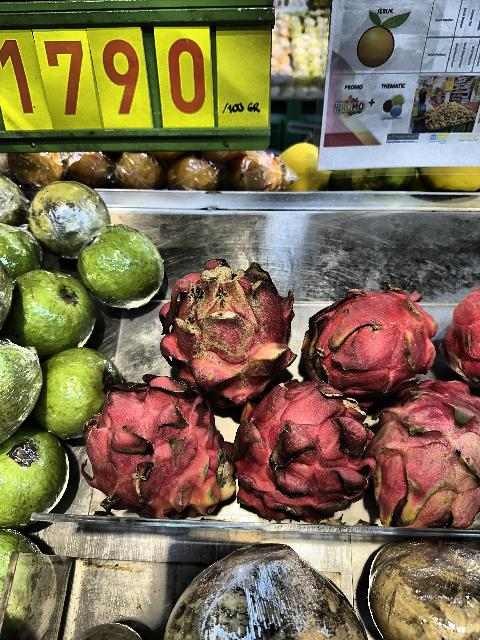buah-naga-belum-matang: (368, 378, 480, 530)
buah-naga-matang: (72, 366, 238, 514), (152, 250, 300, 402), (229, 377, 375, 523), (291, 266, 442, 398)
